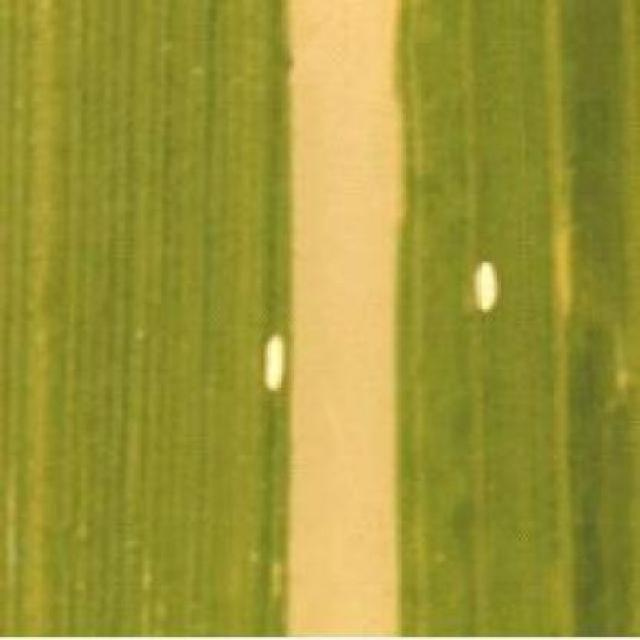whorl-maggot: (466, 250, 511, 322), (258, 318, 290, 402)
